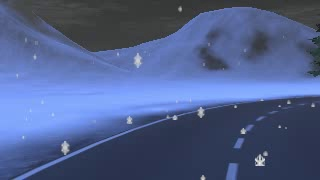Lane: (17, 95, 319, 179)
